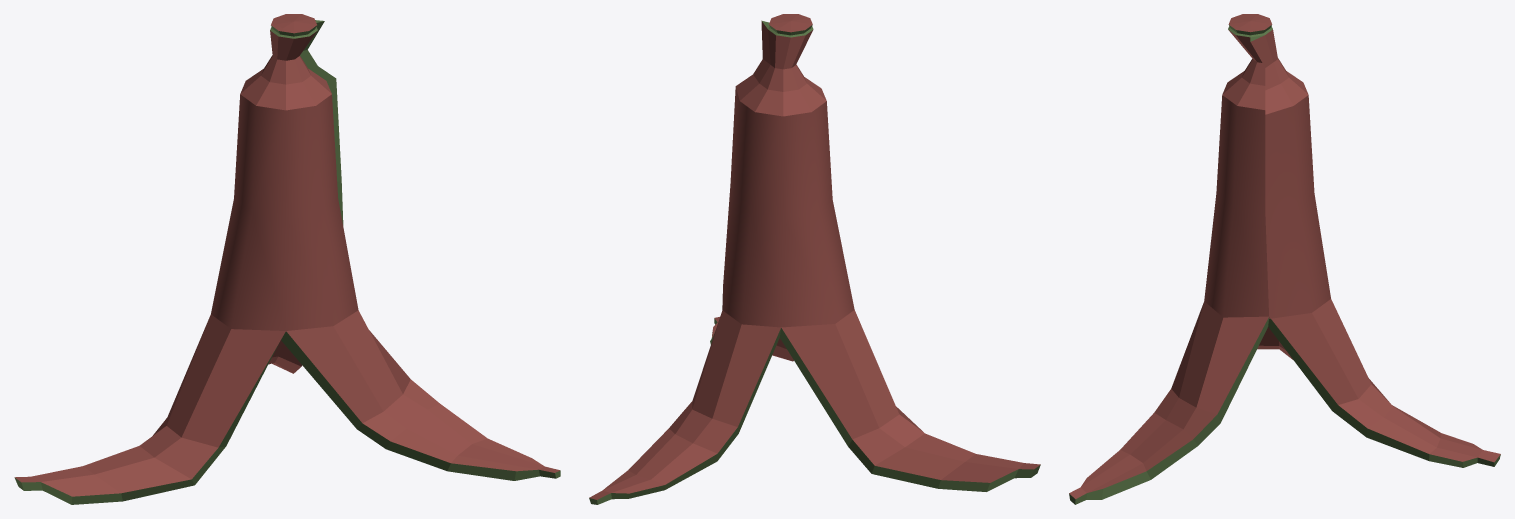
The model's file is bananafixed.fbx.
3 renders of one model, left to right at view 1: azimuth 30°, elevation 25°; view 2: azimuth 150°, elevation 25°; view 3: azimuth 270°, elevation 25°, orthographic. The views are drawn at different scales.
Visible parts, largest first — view 1: Cylinder005; view 2: Cylinder005; view 3: Cylinder005.
Part boxes in pixels (left/top/right/bottom): Cylinder005: left=14, top=14, right=560, bottom=504; Cylinder005: left=589, top=14, right=1040, bottom=504; Cylinder005: left=1069, top=14, right=1500, bottom=504.
Size of the model in its own units: 143 by 134 by 128.
